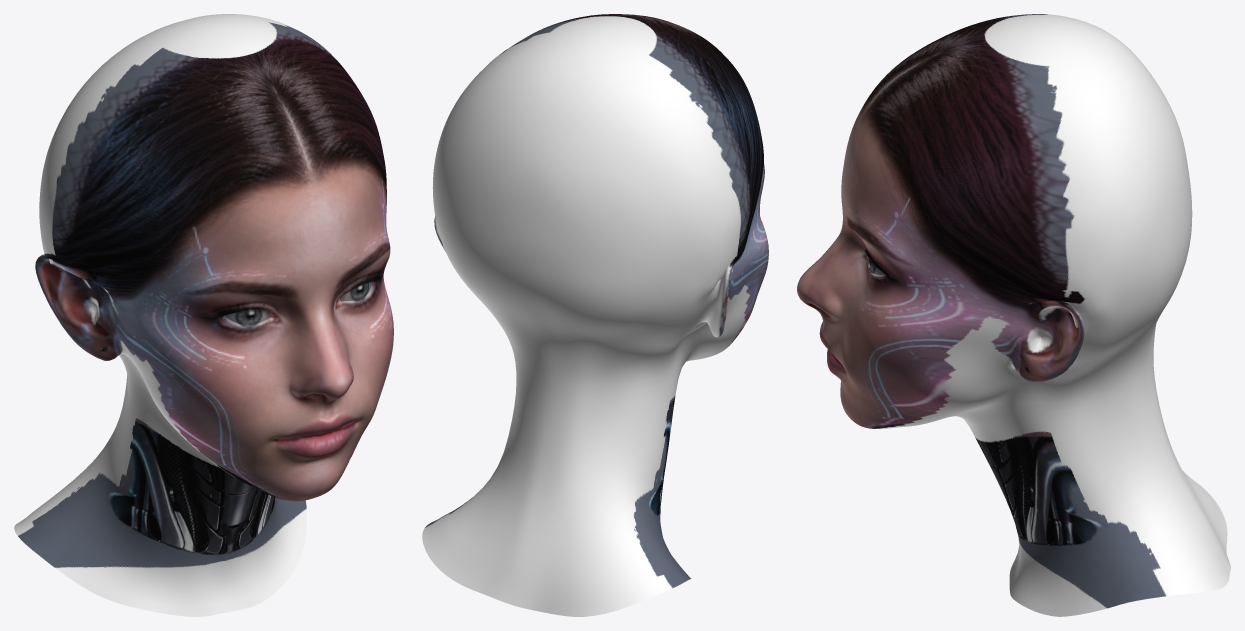
3 views of the same model, side by side, from view 1: azimuth 30°, elevation 25°; view 2: azimuth 150°, elevation 25°; view 3: azimuth 270°, elevation 25° (orthographic). The views are drawn at different scales.
Parts seen in each view (by area): view 1: FBHead; view 2: FBHead; view 3: FBHead.
Boxes of the visible parts, x1,y1,x2,y2 form: FBHead: [14, 14, 393, 616]; FBHead: [422, 14, 768, 616]; FBHead: [797, 14, 1230, 616].
Size of the model in its own units: 1.44 by 2.45 by 1.74.
Materials: 1 (1 with a texture image).
